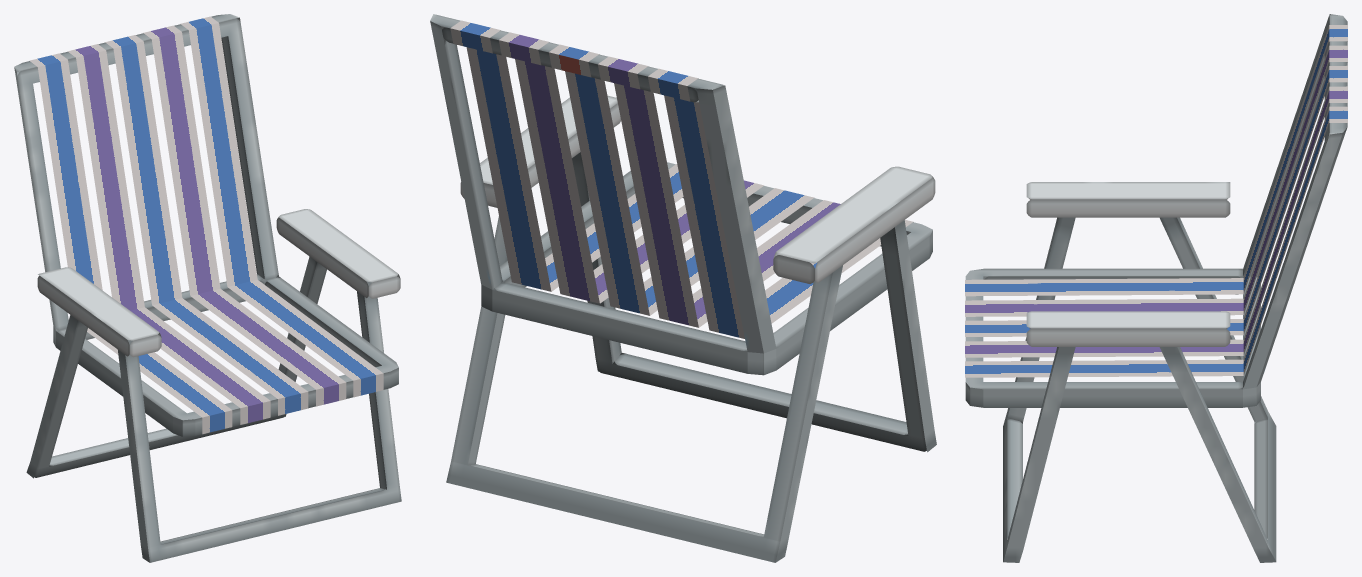
File: OutdoorChair.fbx
The picture shows the model from 3 angles, left to right: view 1: azimuth 30°, elevation 25°; view 2: azimuth 150°, elevation 25°; view 3: azimuth 270°, elevation 25°; orthographic projection. The views are drawn at different scales.
Visible parts, largest first — view 1: ChairBacking, ChairBase; view 2: ChairBase, ChairBacking; view 3: ChairBase, ChairBacking.
Boxes of the visible parts, left/top/right/bottom form: ChairBacking: left=29, top=16, right=383, bottom=434; ChairBase: left=14, top=14, right=401, bottom=562; ChairBase: left=430, top=14, right=936, bottom=562; ChairBacking: left=450, top=20, right=913, bottom=338; ChairBase: left=965, top=14, right=1347, bottom=562; ChairBacking: left=965, top=25, right=1347, bottom=377.
Bounding box in the file's own units: 106 × 142 × 117.
2 materials, 2 textured.
